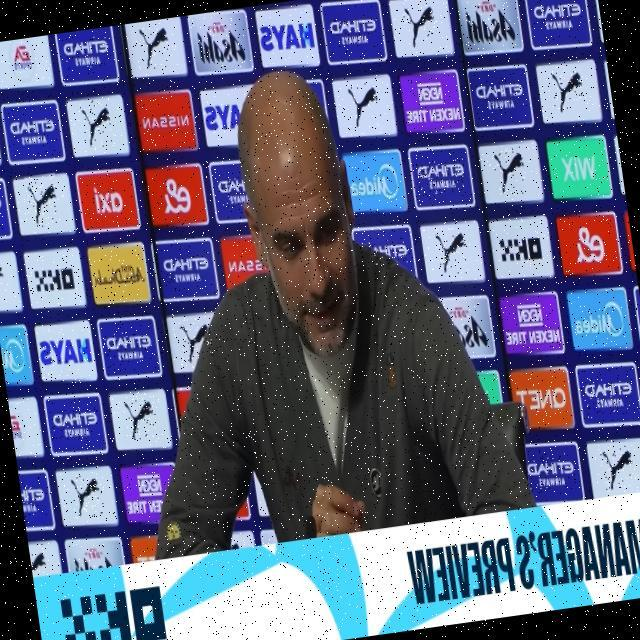Etihad Airways: (582, 374, 634, 419), (524, 452, 578, 494), (328, 12, 381, 54), (102, 326, 154, 368), (474, 80, 527, 120), (415, 158, 468, 198), (533, 0, 584, 41), (48, 406, 101, 443), (61, 33, 112, 71), (6, 114, 59, 150), (162, 252, 213, 288), (123, 396, 159, 441), (369, 237, 411, 268), (217, 174, 248, 209), (20, 483, 47, 520), (0, 192, 6, 229)
Puma: (24, 173, 62, 229), (491, 145, 529, 198), (434, 226, 472, 278), (600, 443, 639, 493), (136, 23, 174, 72), (402, 2, 439, 52), (79, 99, 114, 151), (347, 80, 383, 128), (179, 316, 215, 363), (69, 472, 105, 519), (550, 68, 587, 112), (29, 544, 50, 576), (0, 260, 6, 290)
